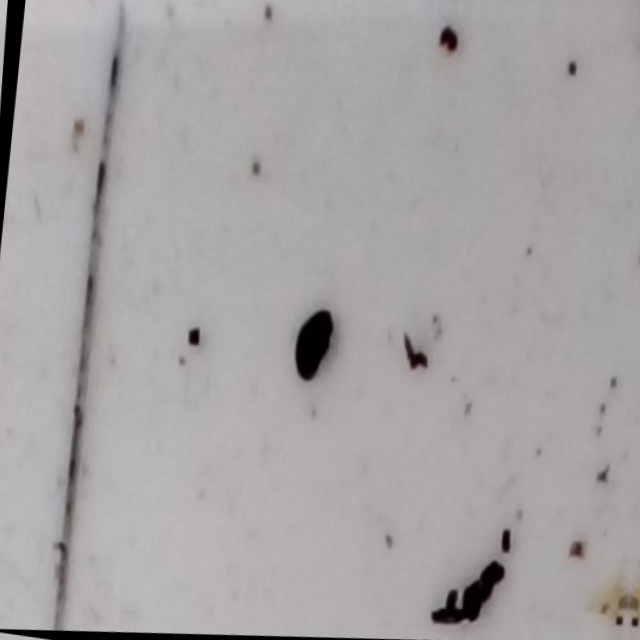varroa: (287, 308, 337, 390)
